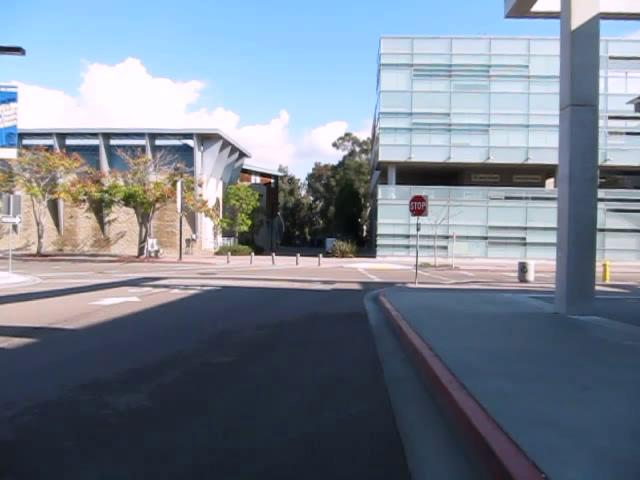stop: (408, 194, 427, 217)
